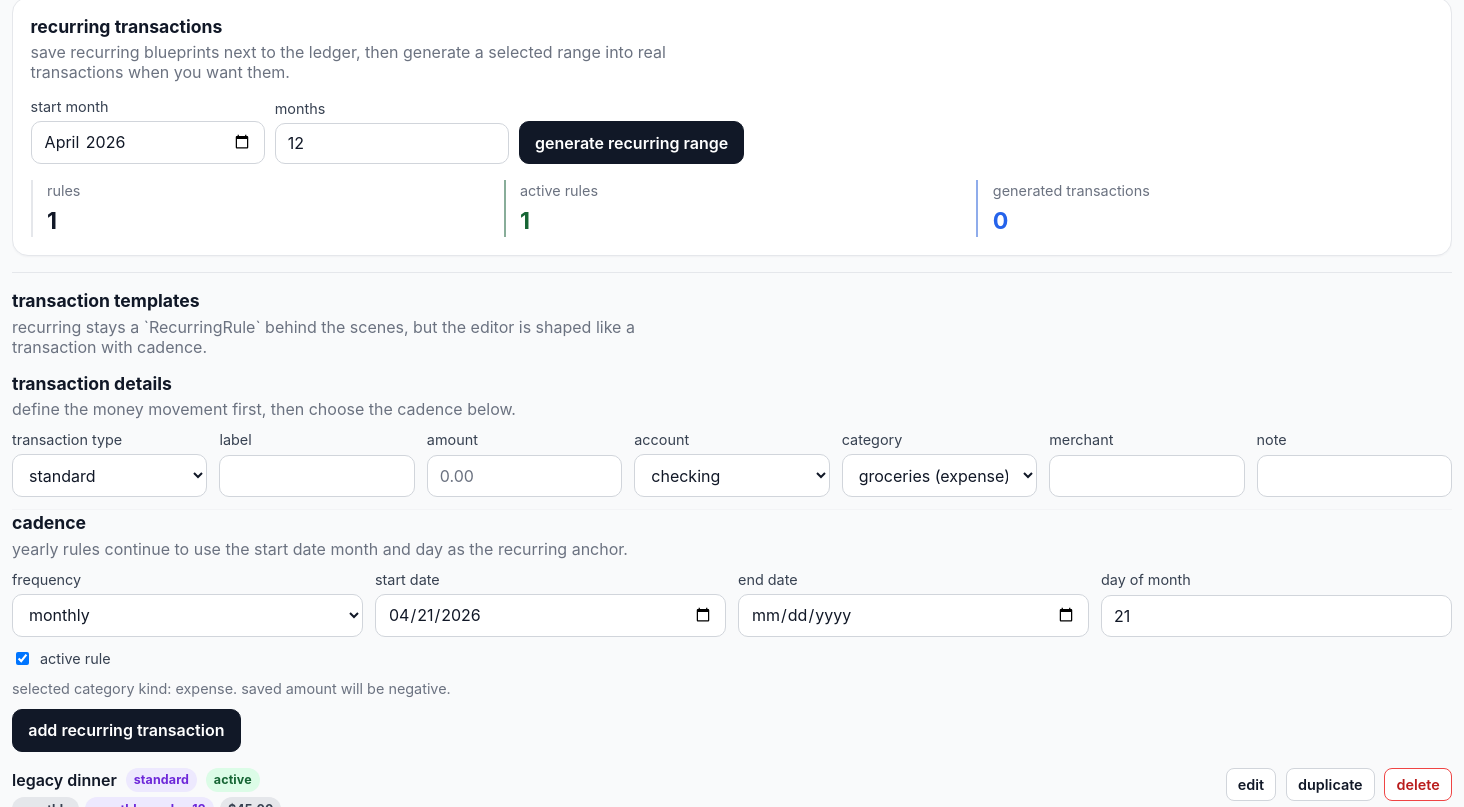
Test: recurring management archived-category behavior › excludes archived categories from new recurring-rule creation but keeps linked archived categories in edit mode
Step 1. Click the button "edit" → click(1251, 784), box [1226, 768, 1276, 801]
(page scrolled)
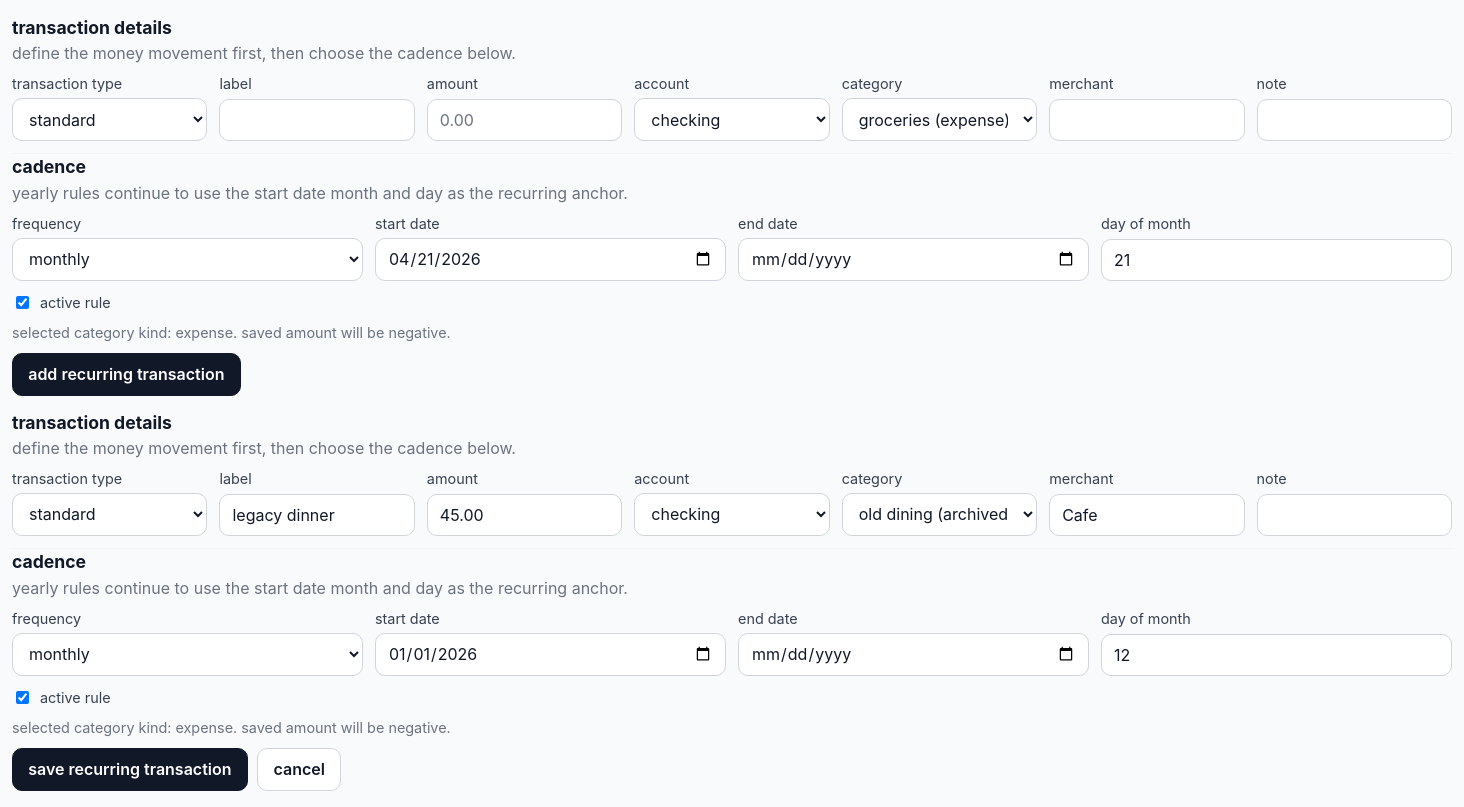
Expected: the 2nd dropdown labelled "category" is shown, [842, 493, 1037, 536]
